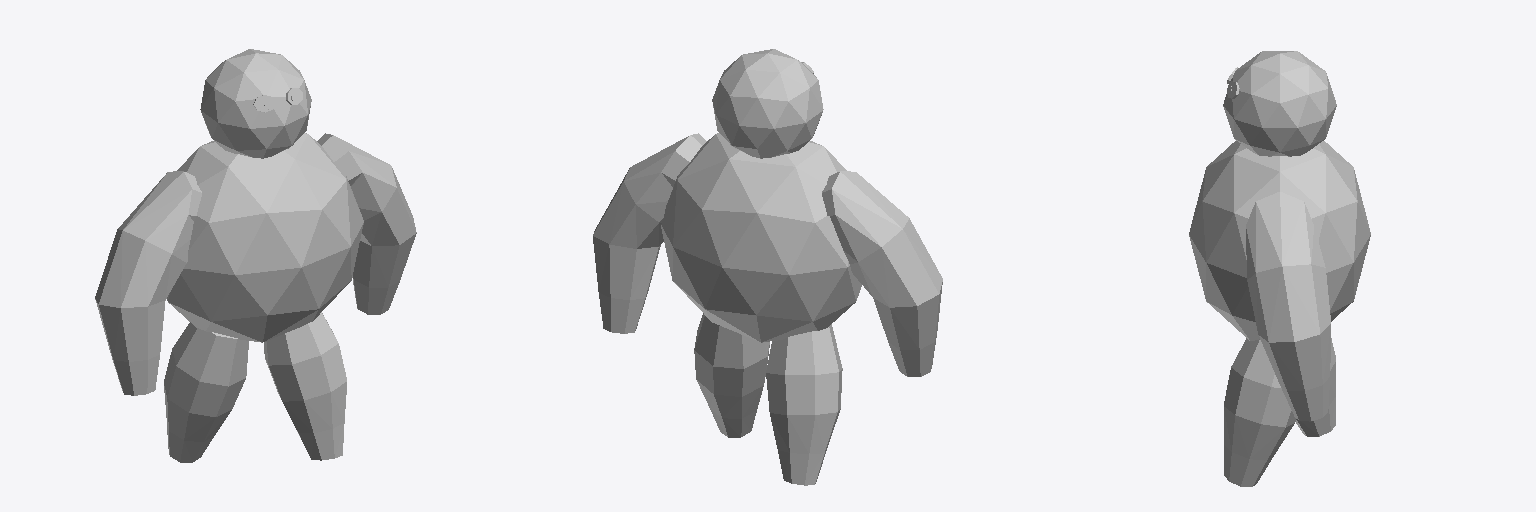
File: bigboi_rigged_000008.obj
3 renders of one model, left to right at view 1: azimuth 30°, elevation 25°; view 2: azimuth 150°, elevation 25°; view 3: azimuth 270°, elevation 25°, orthographic.
Visible parts, largest first — view 1: Cube; view 2: Cube; view 3: Cube.
Boxes of the visible parts, box(x1,y1,x2,y2) form: Cube: box(95, 49, 416, 462); Cube: box(593, 49, 942, 485); Cube: box(1189, 51, 1370, 486).
Bounding box in the file's own units: 6.66 × 7.84 × 3.2.